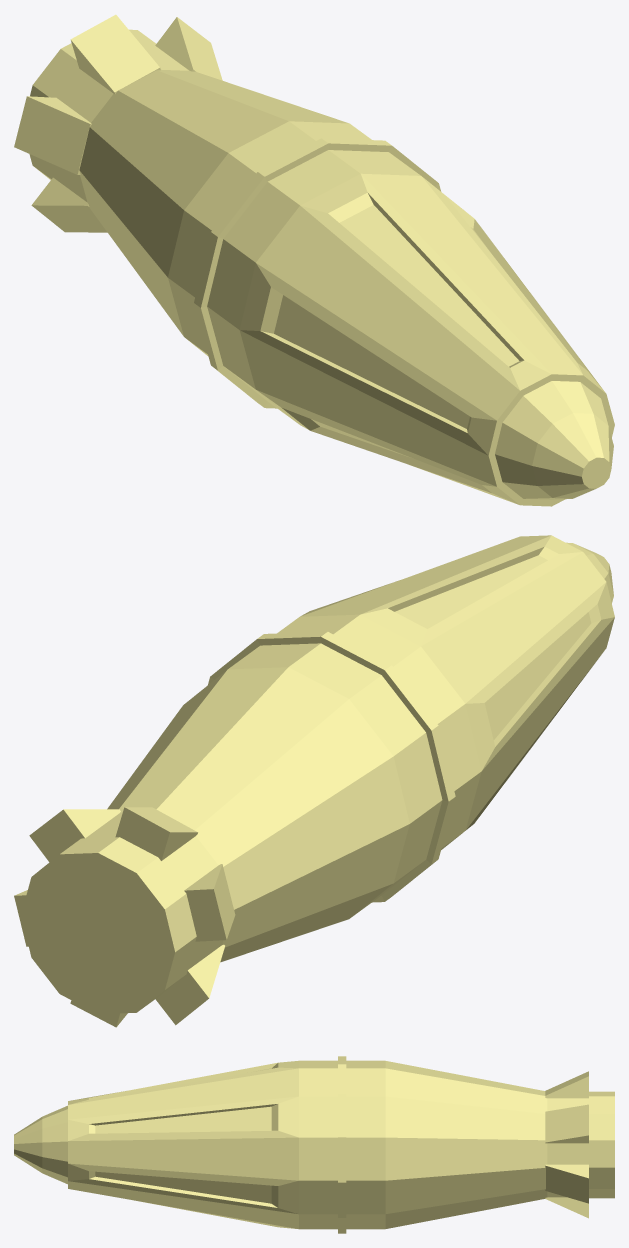
The model's file is rocket.obj.
The picture shows the model from 3 angles, top to bottom: view 1: azimuth 30°, elevation 25°; view 2: azimuth 150°, elevation 25°; view 3: azimuth 270°, elevation 25°; orthographic projection. The views are drawn at different scales.
Bounding box in the file's own units: 1.47 × 1.47 × 4.96.
